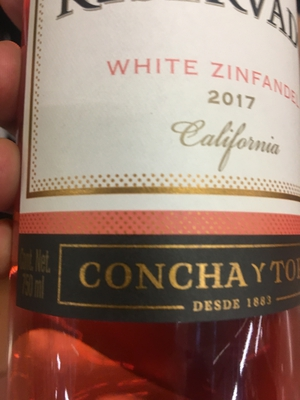reservado white zinfandel: (23, 5, 300, 330)
